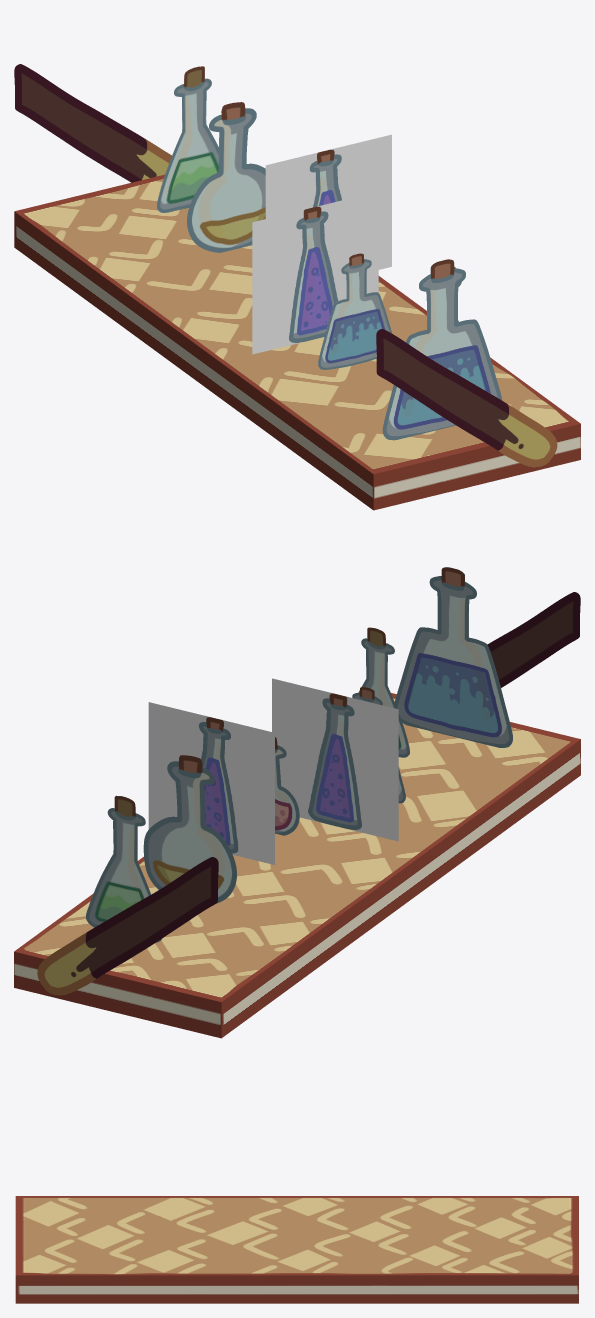
The model's file is Potion_cabinet02.fbx.
The picture shows the model from 3 angles, top to bottom: view 1: azimuth 30°, elevation 25°; view 2: azimuth 150°, elevation 25°; view 3: azimuth 270°, elevation 25°; orthographic projection. The views are drawn at different scales.
Parts seen in each view (by area): view 1: pCube6, pPlane158, pPlane141, pPlane159, pPlane164, pPlane161, pPlane142, pPlane157, pPlane163; view 2: pCube6, pPlane158, pPlane164, pPlane159, pPlane142, pPlane161, pPlane141, pPlane157, pPlane162, pPlane160; view 3: pCube6.
Boxes of the visible parts, bbox=[...] form: pCube6: bbox=[14, 174, 580, 510]; pPlane158: bbox=[252, 191, 378, 354]; pPlane141: bbox=[376, 329, 557, 467]; pPlane159: bbox=[382, 259, 501, 440]; pPlane164: bbox=[265, 134, 391, 269]; pPlane161: bbox=[187, 102, 265, 252]; pPlane142: bbox=[14, 64, 171, 182]; pPlane157: bbox=[157, 66, 218, 212]; pPlane163: bbox=[318, 253, 392, 369]; pCube6: bbox=[14, 693, 580, 1038]; pPlane158: bbox=[272, 678, 398, 841]; pPlane164: bbox=[148, 702, 274, 864]; pPlane159: bbox=[394, 567, 512, 747]; pPlane142: bbox=[37, 857, 218, 995]; pPlane161: bbox=[143, 755, 236, 903]; pPlane141: bbox=[487, 592, 580, 687]; pPlane157: bbox=[86, 795, 161, 942]; pPlane162: bbox=[358, 627, 409, 757]; pPlane160: bbox=[275, 737, 299, 835]; pCube6: bbox=[15, 1196, 578, 1303].
Size of the model in its own units: 1.96 by 1.72 by 5.45.
Materials: 7 (7 with a texture image).
